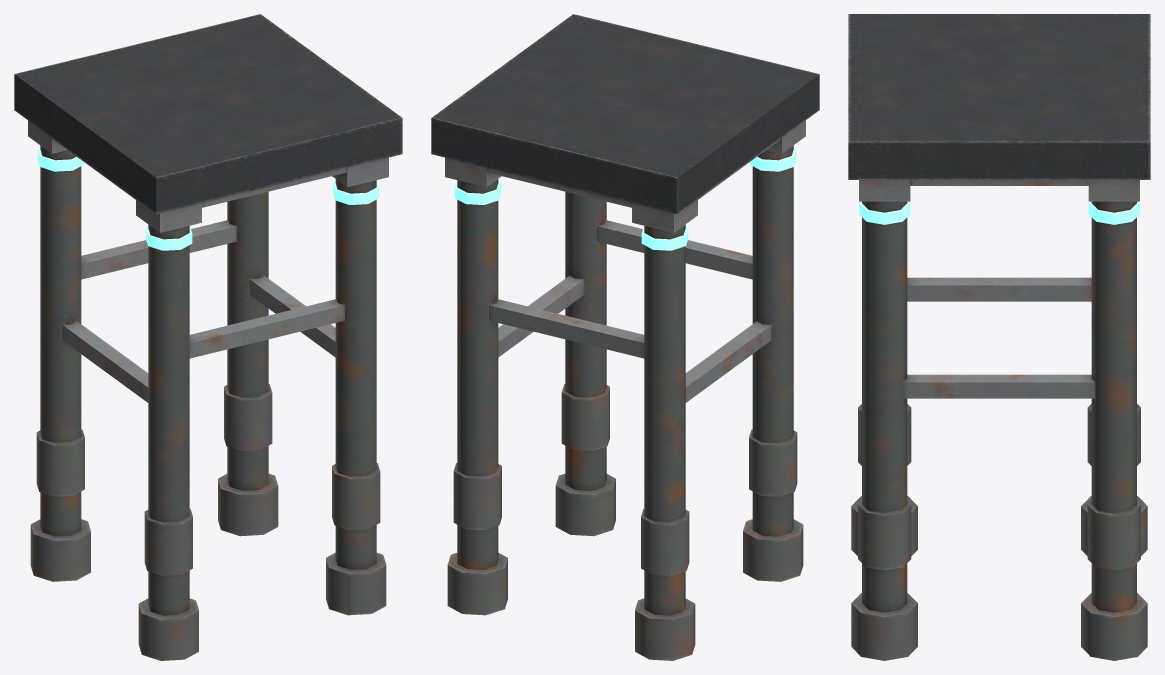
File: plataforma_agua.glb
The picture shows the model from 3 angles, left to right: view 1: azimuth 30°, elevation 25°; view 2: azimuth 150°, elevation 25°; view 3: azimuth 270°, elevation 25°; orthographic projection. The views are drawn at different scales.
Parts seen in each view (by area): view 1: plataforma_agua_corpo; view 2: plataforma_agua_corpo; view 3: plataforma_agua_corpo.
Part boxes in pixels (box(x1,y1,x2,y2)): plataforma_agua_corpo: box(14, 14, 402, 660); plataforma_agua_corpo: box(431, 14, 819, 660); plataforma_agua_corpo: box(848, 14, 1150, 660).
Size of the model in its own units: 1 by 1.9 by 1.
Materials: 2 (1 with a texture image).
